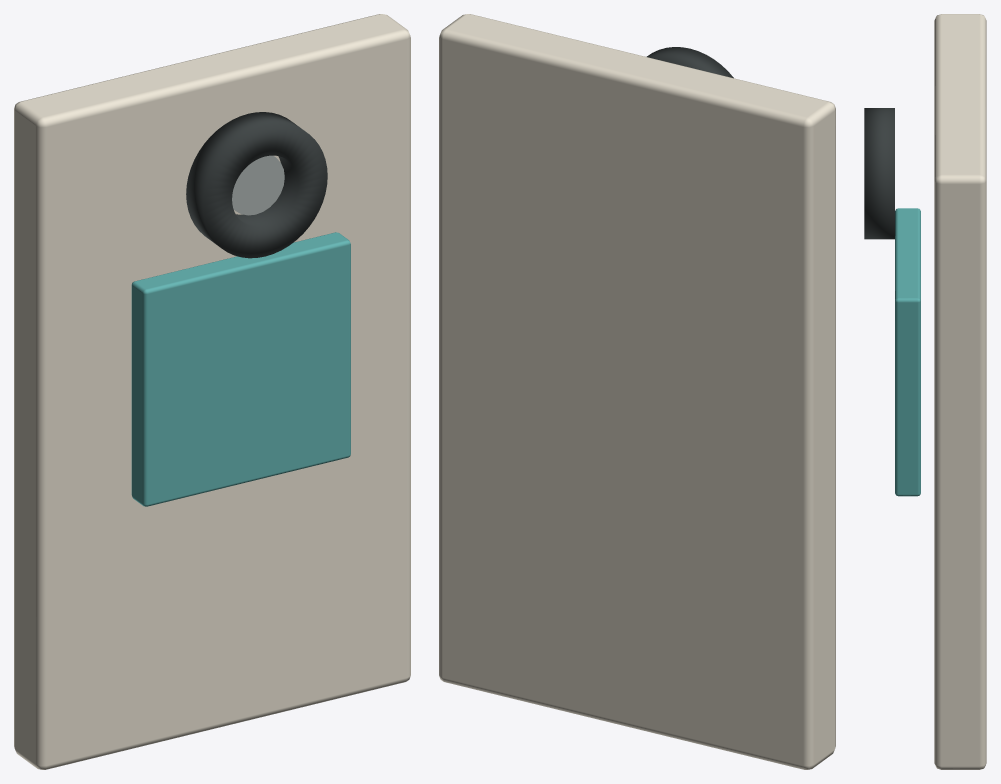
Rendered from indoor-climbing-and-bouldering-gym-indoor-climbing-and-33e5ef2f__31534.glb.
3 views of the same model, side by side, from view 1: azimuth 30°, elevation 25°; view 2: azimuth 150°, elevation 25°; view 3: azimuth 270°, elevation 25° (orthographic). The views are drawn at different scales.
Parts seen in each view (by area): view 1: indoor-climbing-and-bouldering-gym-route-start-tag; view 2: indoor-climbing-and-bouldering-gym-route-start-tag; view 3: indoor-climbing-and-bouldering-gym-route-start-tag.
Boxes of the visible parts, <box> form: indoor-climbing-and-bouldering-gym-route-start-tag: <box>14,14,410,769</box>; indoor-climbing-and-bouldering-gym-route-start-tag: <box>439,14,835,769</box>; indoor-climbing-and-bouldering-gym-route-start-tag: <box>864,14,986,769</box>.
Bounding box in the file's own units: 0.09 × 0.15 × 0.028.
